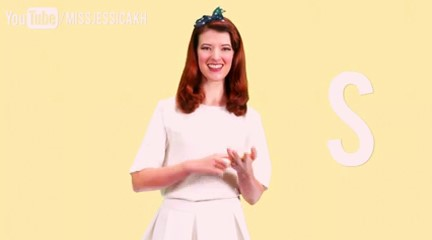S: (193, 143, 263, 178)
